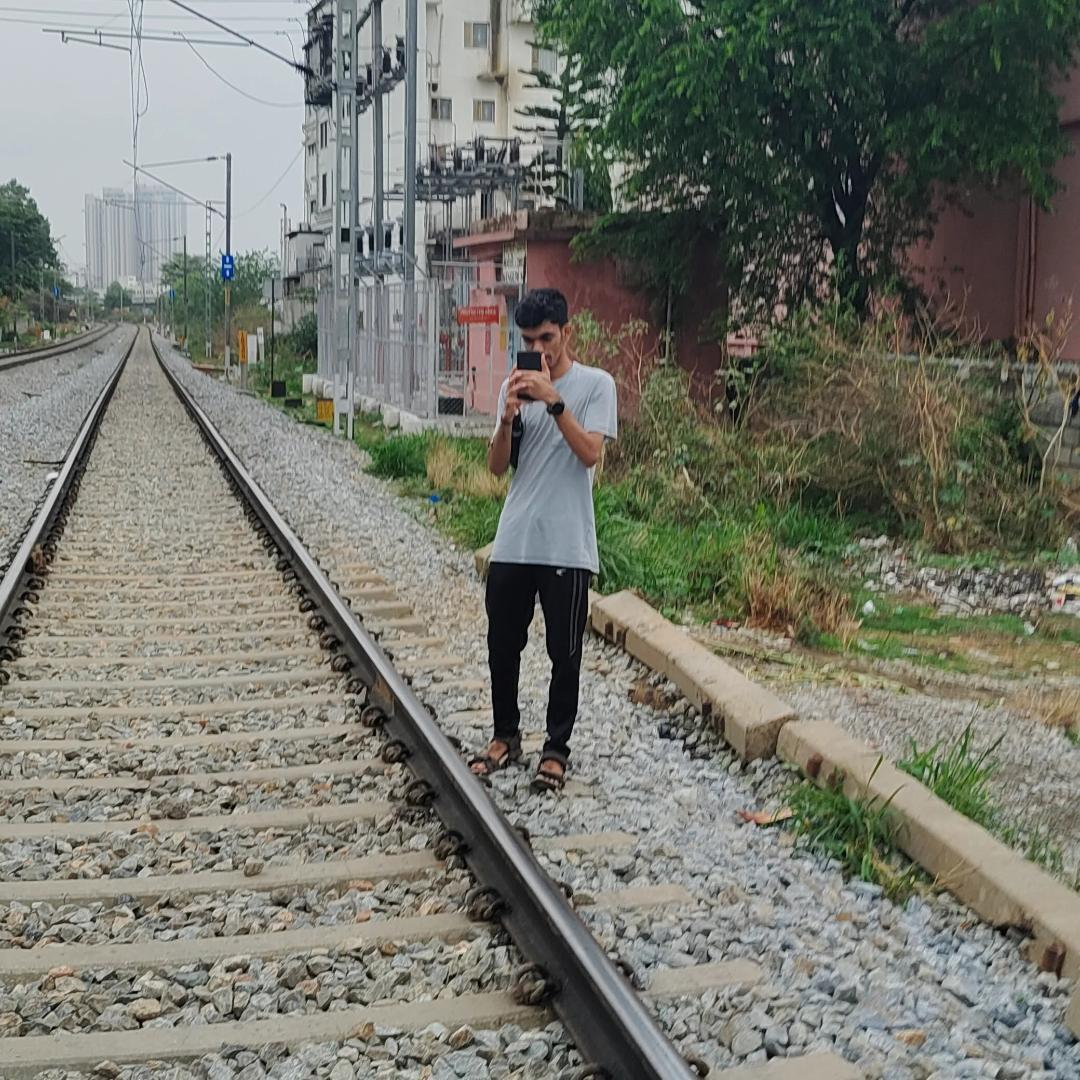standing: (464, 270, 623, 798)
track: (0, 319, 755, 1080)
